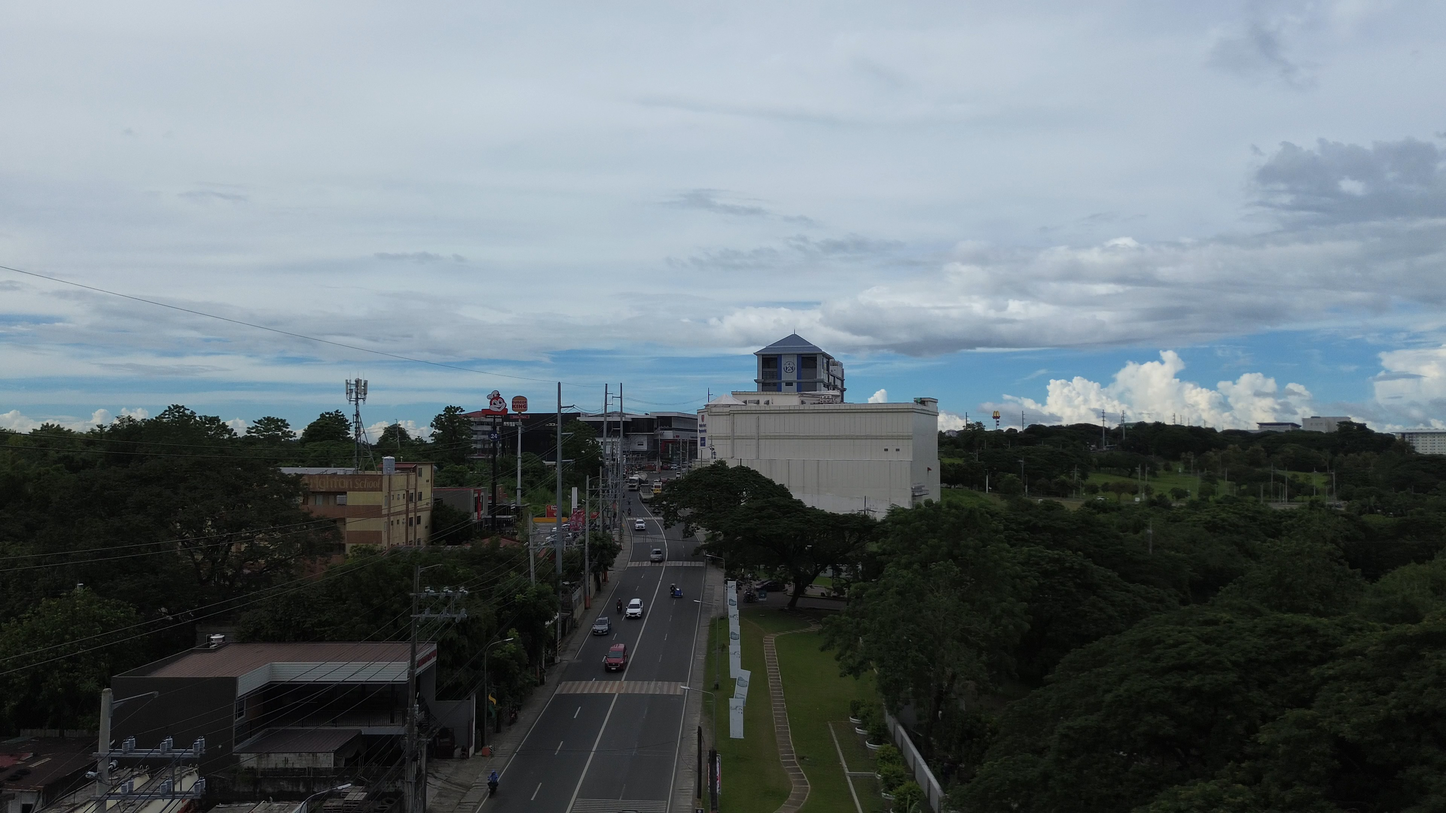car: (604, 642, 627, 671), (625, 598, 644, 618), (591, 617, 611, 635), (754, 580, 785, 591), (650, 548, 665, 562), (633, 519, 646, 530)
